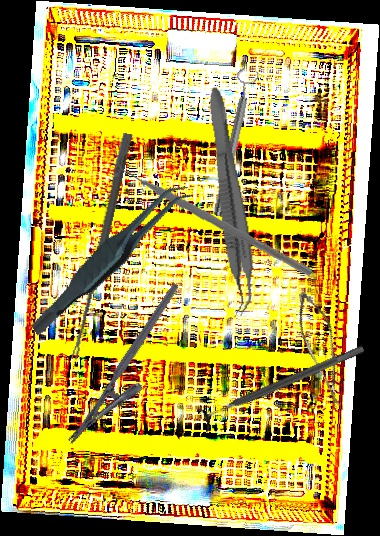Chopper: (112, 138, 314, 286)
Fixation Ring: (195, 336, 370, 434), (204, 66, 262, 219)
Micro Scissor: (278, 287, 368, 412)
Needle Holder: (66, 282, 201, 460)
Surgical Spoon: (69, 132, 133, 361)
Tissue Forceps: (7, 179, 214, 337), (194, 85, 264, 319)
